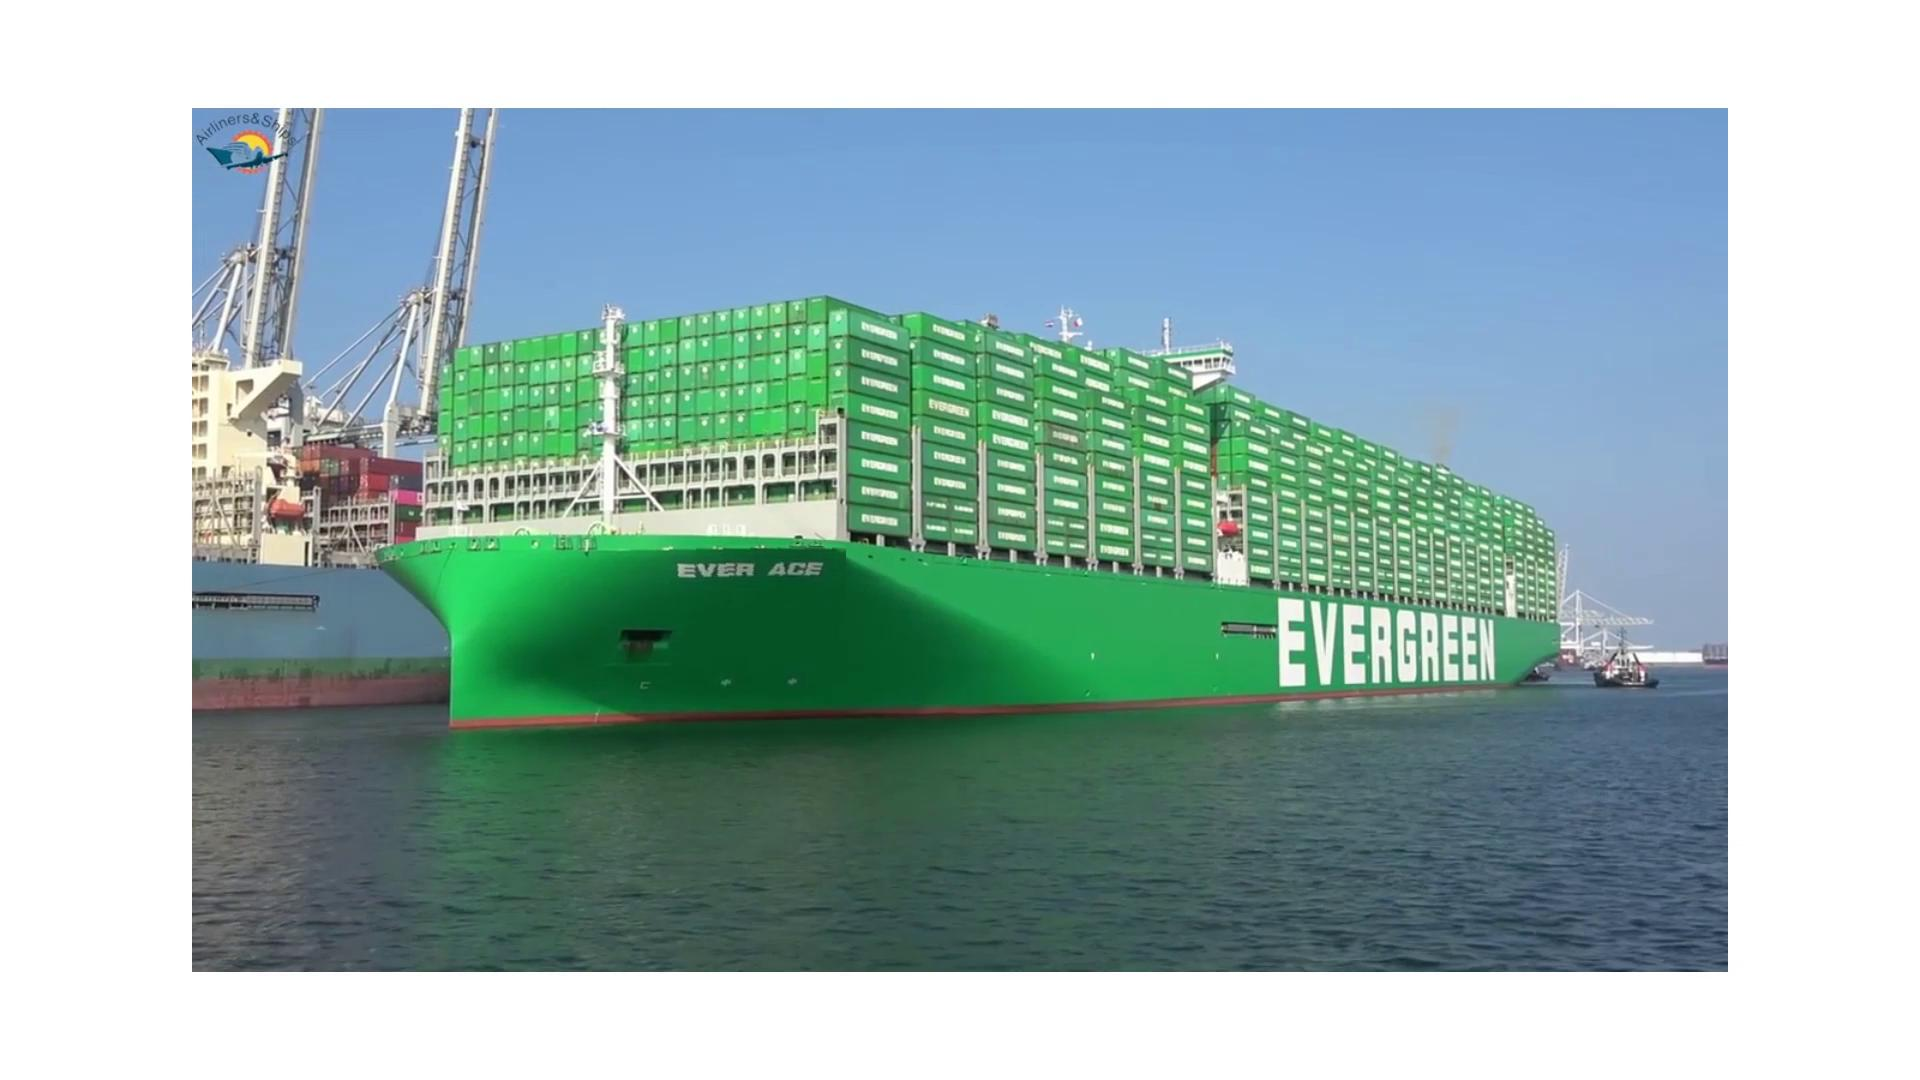OCR: (654, 545, 847, 607)
